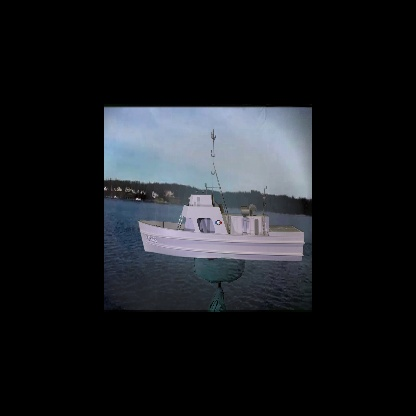YP689: (139, 128, 305, 263)
